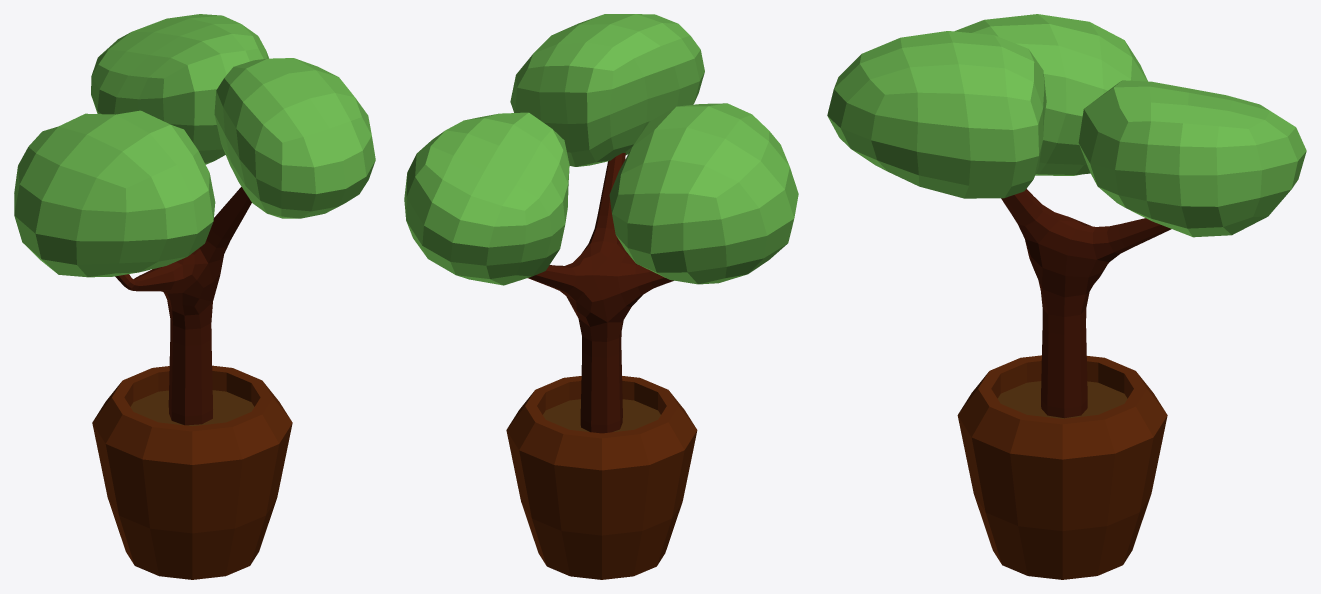
The model's file is Plant_Bonzai.fbx.
3 views of the same model, side by side, from view 1: azimuth 30°, elevation 25°; view 2: azimuth 150°, elevation 25°; view 3: azimuth 270°, elevation 25° (orthographic). The views are drawn at different scales.
Visible parts, largest first — view 1: Plant_Bonzai; view 2: Plant_Bonzai; view 3: Plant_Bonzai.
Part boxes in pixels (<box>): Plant_Bonzai: <box>14,14,375,579</box>; Plant_Bonzai: <box>404,14,798,579</box>; Plant_Bonzai: <box>827,14,1306,579</box>.
Bounding box in the file's own units: 0.7603 × 1.17 × 0.9597.
